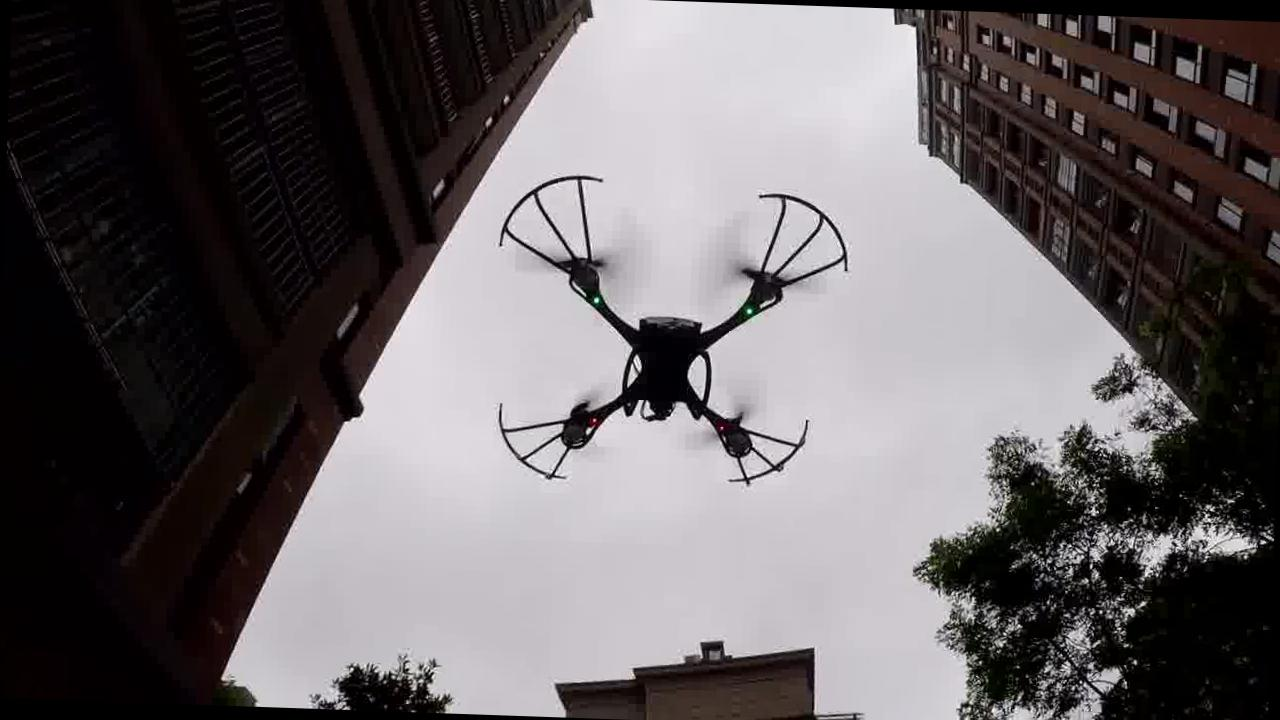drone: (479, 160, 862, 522)
